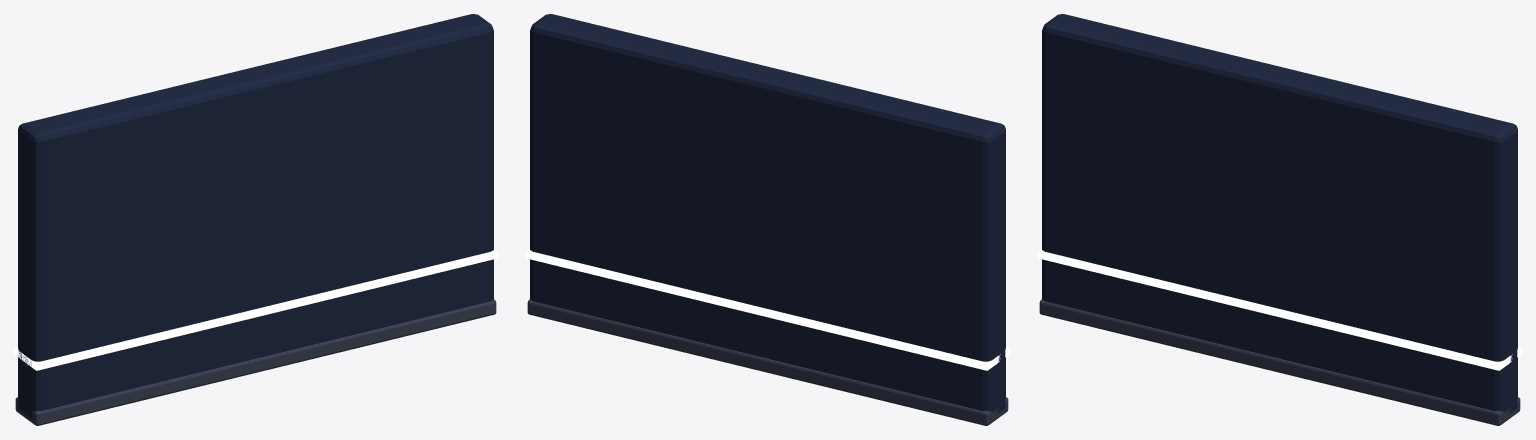
Rendered from mur.glb.
3 renders of one model, left to right at view 1: azimuth 30°, elevation 25°; view 2: azimuth 150°, elevation 25°; view 3: azimuth 330°, elevation 25°, orthographic.
Visible parts, largest first — view 1: Mur, Plinthe, Bande; view 2: Mur, Plinthe, Bande; view 3: Mur, Plinthe, Bande.
Part boxes in pixels (<box>): Mur: <box>18,14,493,417</box>; Plinthe: <box>15,299,496,425</box>; Bande: <box>14,249,497,370</box>; Mur: <box>530,14,1005,413</box>; Plinthe: <box>527,299,1008,425</box>; Bande: <box>526,249,1009,370</box>; Mur: <box>1042,14,1517,413</box>; Plinthe: <box>1039,299,1520,425</box>; Bande: <box>1038,249,1521,370</box>.
Size of the model in its own units: 4 by 2.4 by 0.335.
